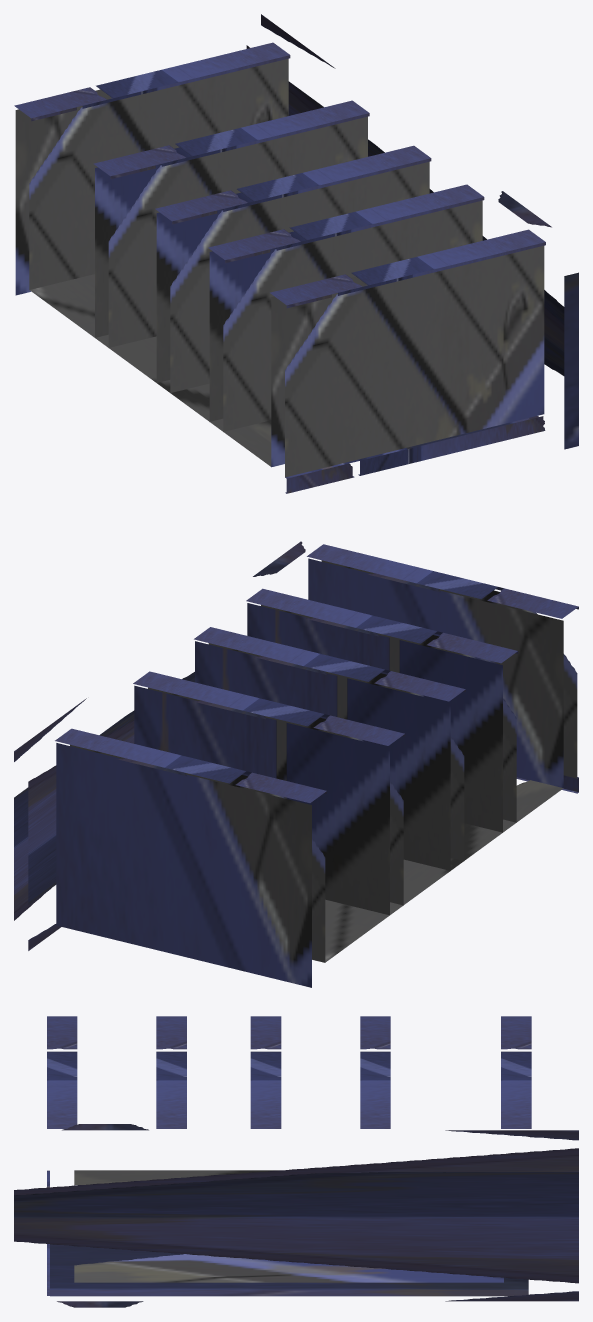
3 views of the same model, one above another, from view 1: azimuth 30°, elevation 25°; view 2: azimuth 150°, elevation 25°; view 3: azimuth 270°, elevation 25° (orthographic). The views are drawn at different scales.
Size of the model in its own units: 0.92 by 0.6398 by 1.85.
